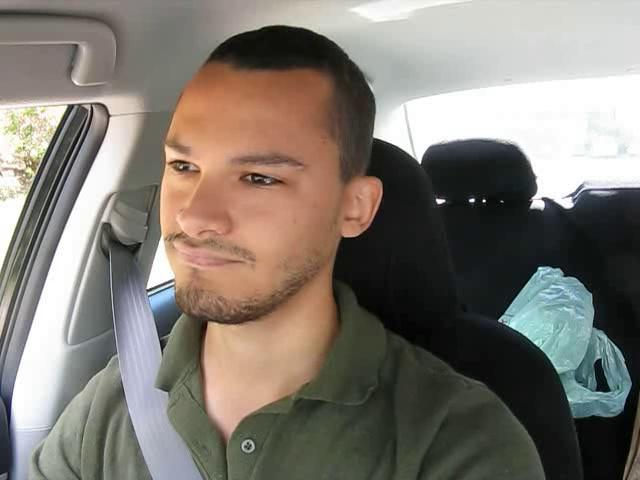no_yawn: (162, 237, 257, 282)
open_eyeL: (158, 149, 209, 186)
open_eyeR: (227, 159, 301, 200)
